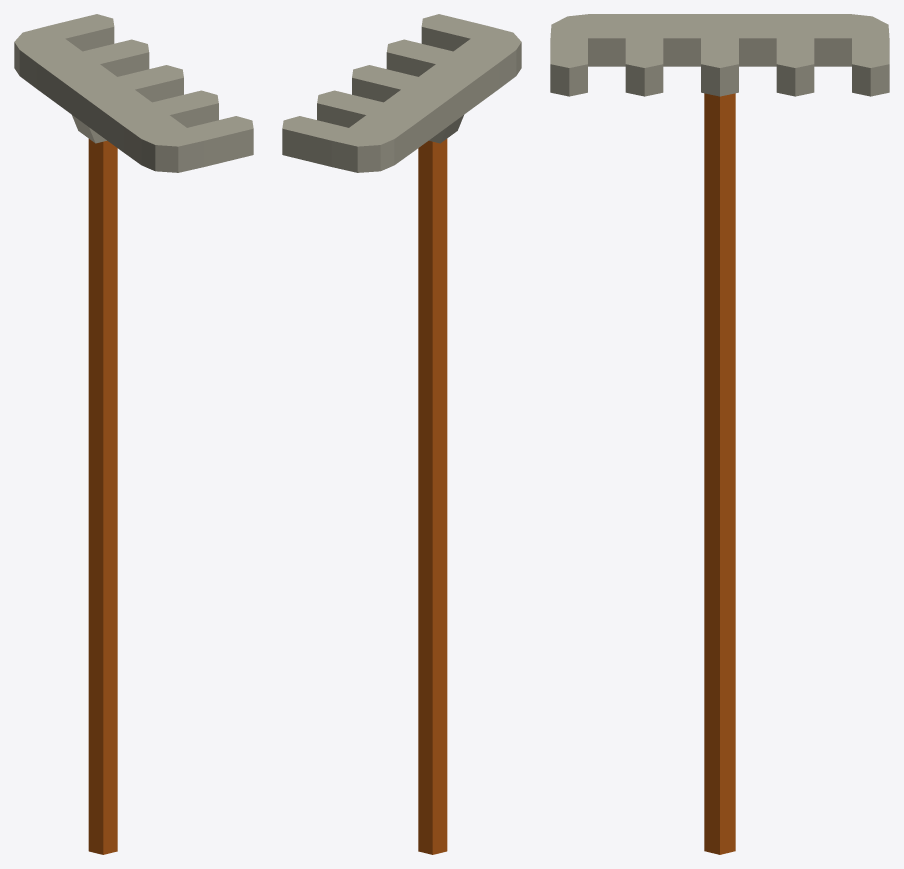
The model's file is rake.fbx.
The picture shows the model from 3 angles, left to right: view 1: azimuth 30°, elevation 25°; view 2: azimuth 150°, elevation 25°; view 3: azimuth 270°, elevation 25°; orthographic projection. The views are drawn at different scales.
Visible parts, largest first — view 1: rake; view 2: rake; view 3: rake.
Boxes of the visible parts, x1=… form: rake: x1=14, y1=14, x2=253, y2=854; rake: x1=282, y1=14, x2=521, y2=854; rake: x1=550, y1=14, x2=889, y2=854.
Bounding box in the file's own units: 31.55 × 223 × 83.54.
